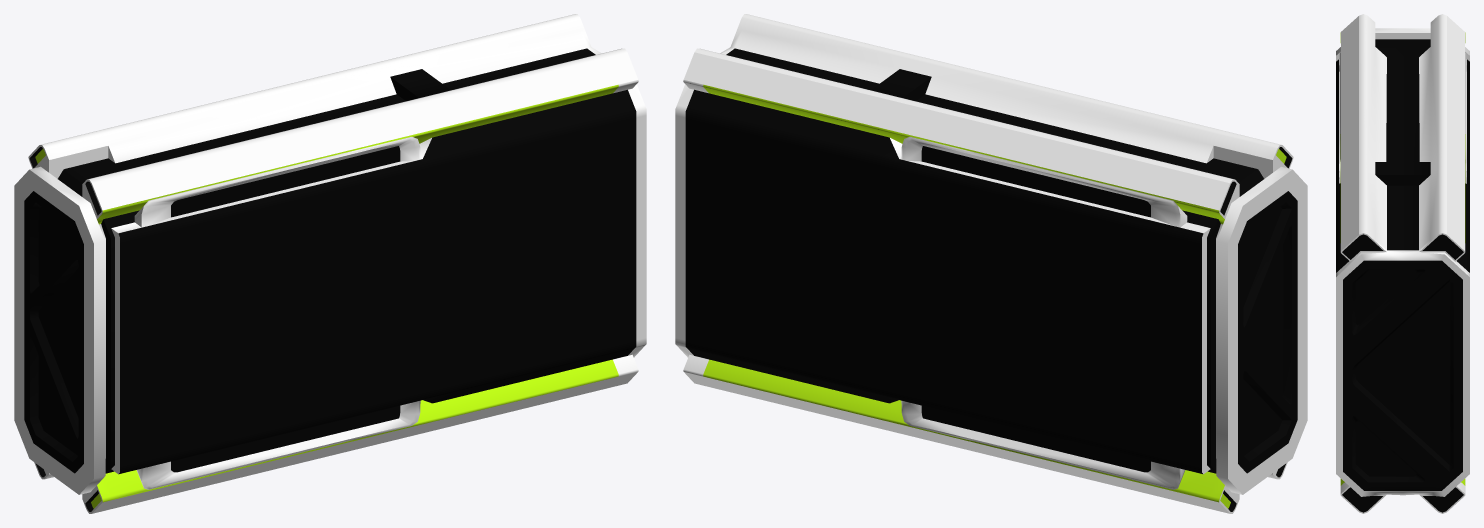
File: part_main-lod0.dae
3 renders of one model, left to right at view 1: azimuth 30°, elevation 25°; view 2: azimuth 150°, elevation 25°; view 3: azimuth 270°, elevation 25°, orthographic. The views are drawn at different scales.
Visible parts, largest first — view 1: part_main-lod0Xlod0Xp2genericXgen_p2_hulltexture_02_c, part_main-lod0Xlod0Xp2genericXgen_p2_hulltexture_02, part_main-lod0Xlod0Xp2genericXgen_p2_hullpattern_01, part_main-lod0Xlod0Xp2multimatXp2_multimat_01; view 2: part_main-lod0Xlod0Xp2genericXgen_p2_hulltexture_02_c, part_main-lod0Xlod0Xp2genericXgen_p2_hulltexture_02, part_main-lod0Xlod0Xp2genericXgen_p2_hullpattern_01, part_main-lod0Xlod0Xp2multimatXp2_multimat_01; view 3: part_main-lod0Xlod0Xp2genericXgen_p2_hullpattern_01, part_main-lod0Xlod0Xp2genericXgen_p2_hulltexture_02, part_main-lod0Xlod0Xp2genericXgen_p2_hulltexture_02_c, part_main-lod0Xlod0Xp2multimatXp2_multimat_01.
Part boxes in pixels (x1,y1,x2,y2): part_main-lod0Xlod0Xp2genericXgen_p2_hulltexture_02_c: [29, 48, 636, 511]; part_main-lod0Xlod0Xp2genericXgen_p2_hulltexture_02: [14, 14, 646, 513]; part_main-lod0Xlod0Xp2genericXgen_p2_hullpattern_01: [24, 146, 400, 473]; part_main-lod0Xlod0Xp2multimatXp2_multimat_01: [37, 84, 618, 502]; part_main-lod0Xlod0Xp2genericXgen_p2_hulltexture_02_c: [685, 48, 1292, 511]; part_main-lod0Xlod0Xp2genericXgen_p2_hulltexture_02: [675, 14, 1307, 513]; part_main-lod0Xlod0Xp2genericXgen_p2_hullpattern_01: [921, 146, 1297, 473]; part_main-lod0Xlod0Xp2multimatXp2_multimat_01: [703, 84, 1284, 502]; part_main-lod0Xlod0Xp2genericXgen_p2_hullpattern_01: [1342, 234, 1463, 512]; part_main-lod0Xlod0Xp2genericXgen_p2_hulltexture_02: [1336, 14, 1469, 513]; part_main-lod0Xlod0Xp2genericXgen_p2_hulltexture_02_c: [1336, 39, 1469, 272]; part_main-lod0Xlod0Xp2multimatXp2_multimat_01: [1339, 32, 1466, 485].
Size of the model in its own units: 8 by 4.64 by 2.
